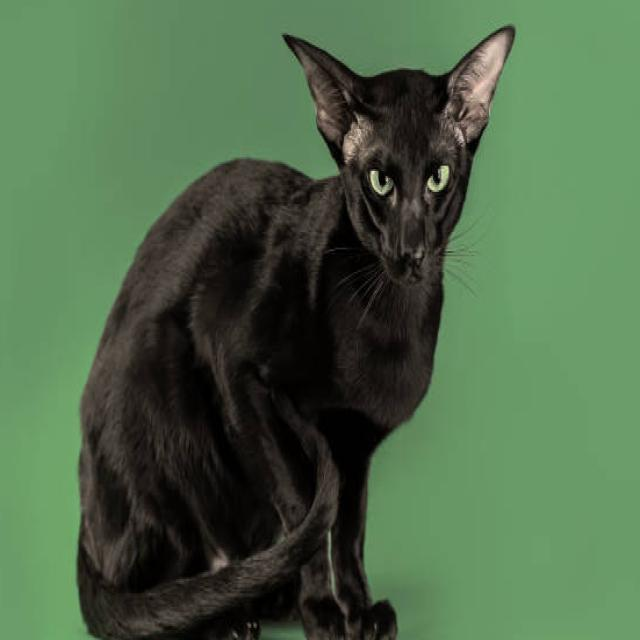Oriental: (73, 21, 520, 640)
